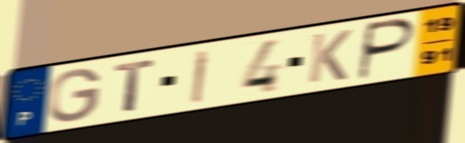4: (236, 37, 286, 96)
G: (46, 67, 104, 125)
I: (189, 47, 212, 106)
K: (305, 27, 355, 85)
P: (355, 17, 419, 83)
T: (112, 57, 159, 114)
